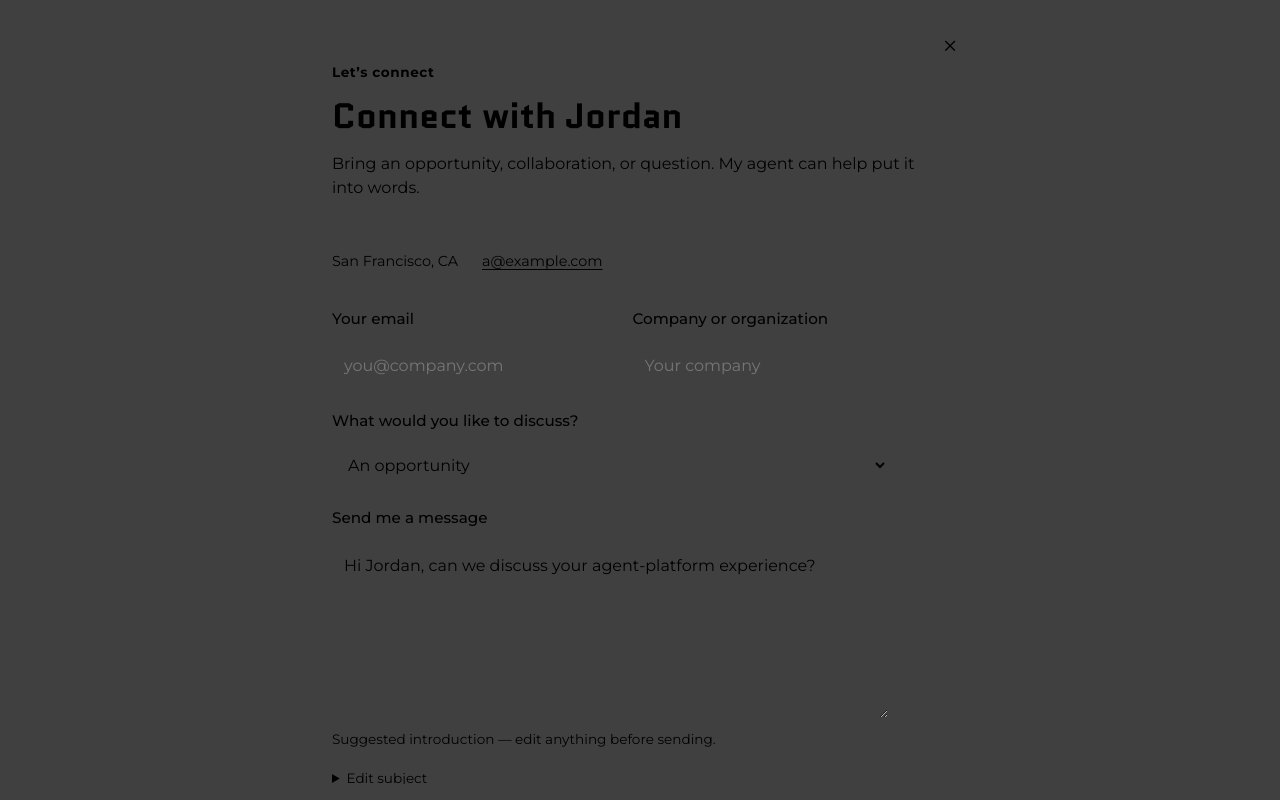
Test: contact introduction › does not show a stale send result over a newer assistant draft
Expected: the text "Suggested introduction — edit anything before sending." is shown, [332,731,716,747]
Type "visitor@example.com" into the field labelled "Your email".
click(467, 366); type("visitor@example.com")  # box [332,341,602,391]
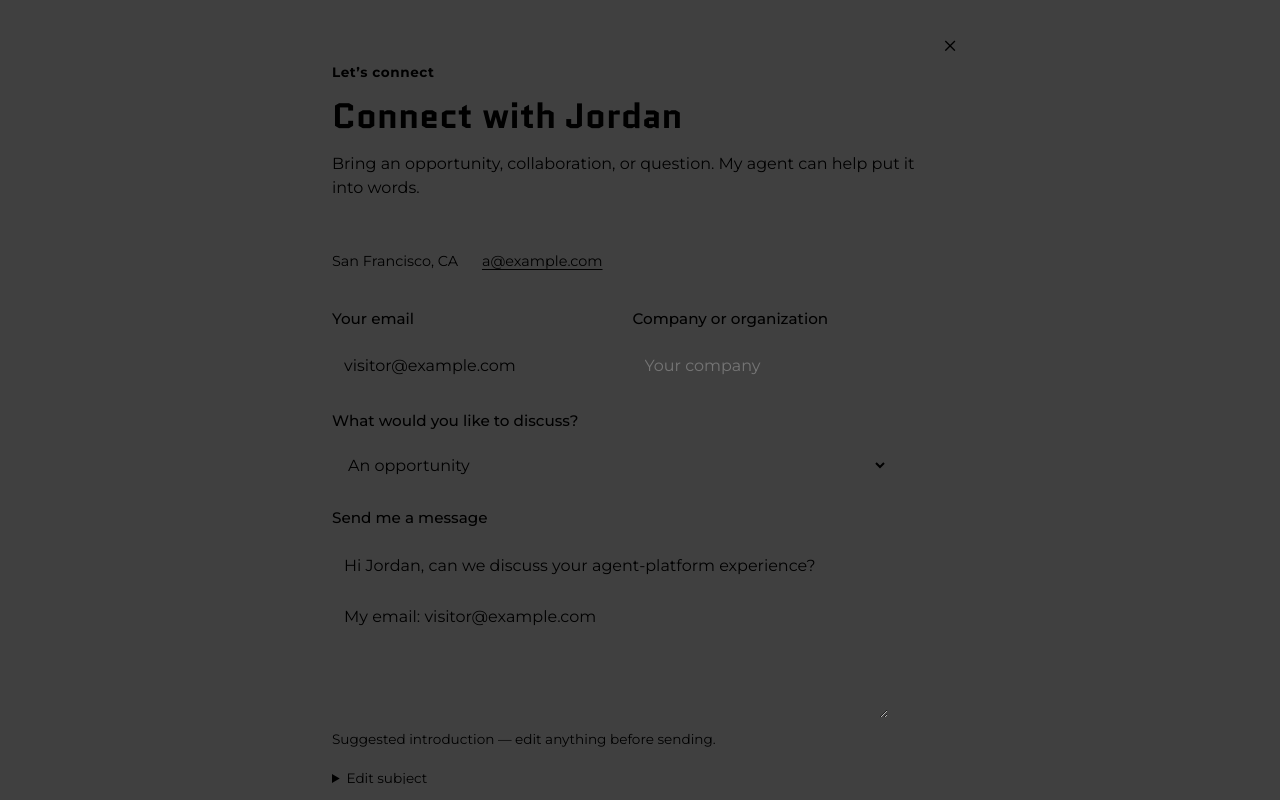
Type "Example Labs" into the field labelled "Company or organization".
click(768, 366); type("Example Labs")  # box [633,341,903,391]
(page scrolled)
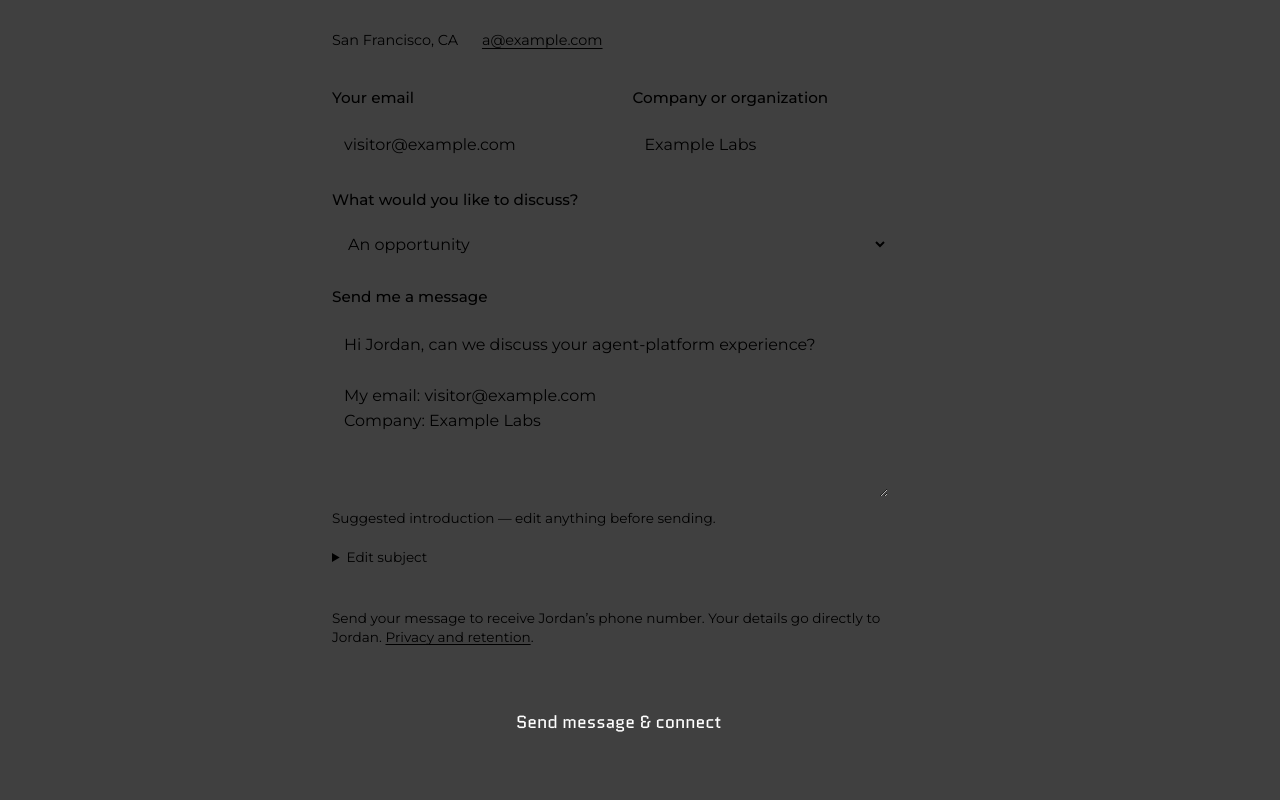
Submit the form named "Send message & connect", box [332,86,917,752]
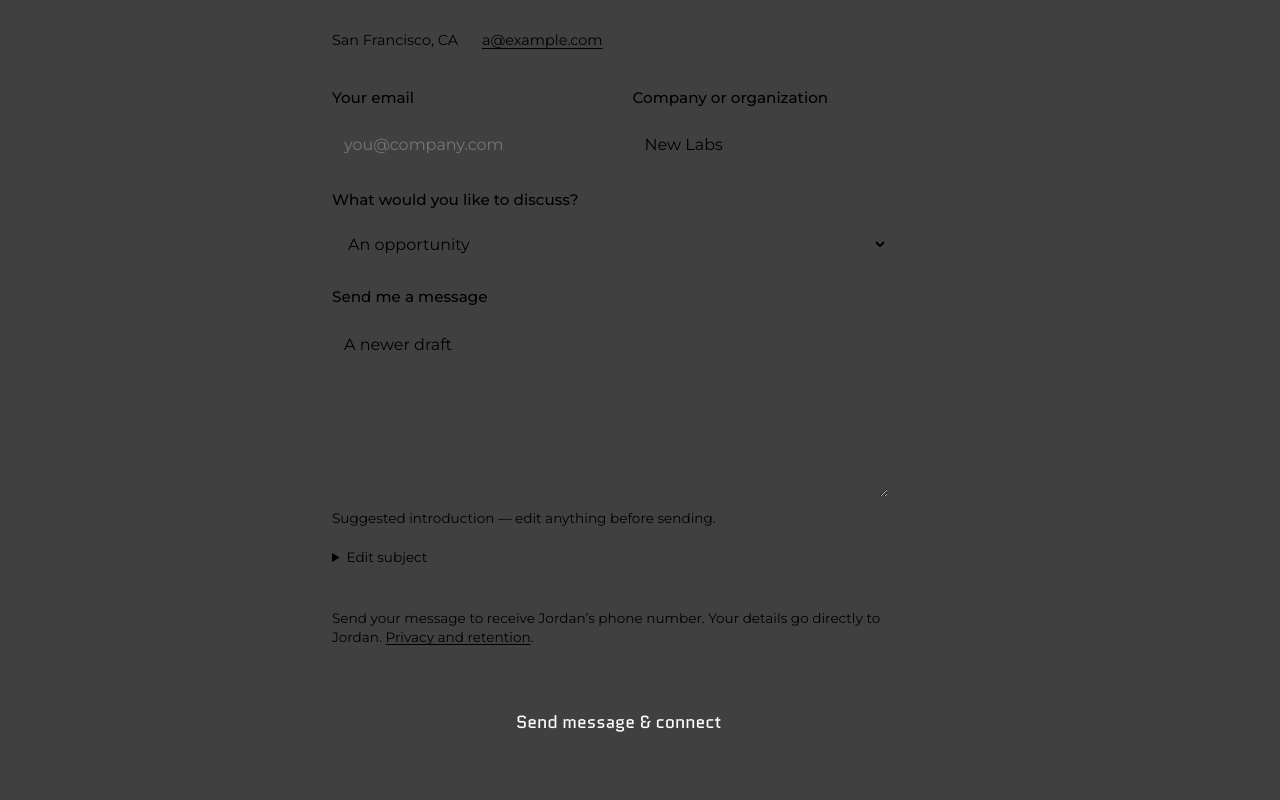
Now the text box labelled "Send me a message" holds "A newer draft", box [332,320,888,497]
